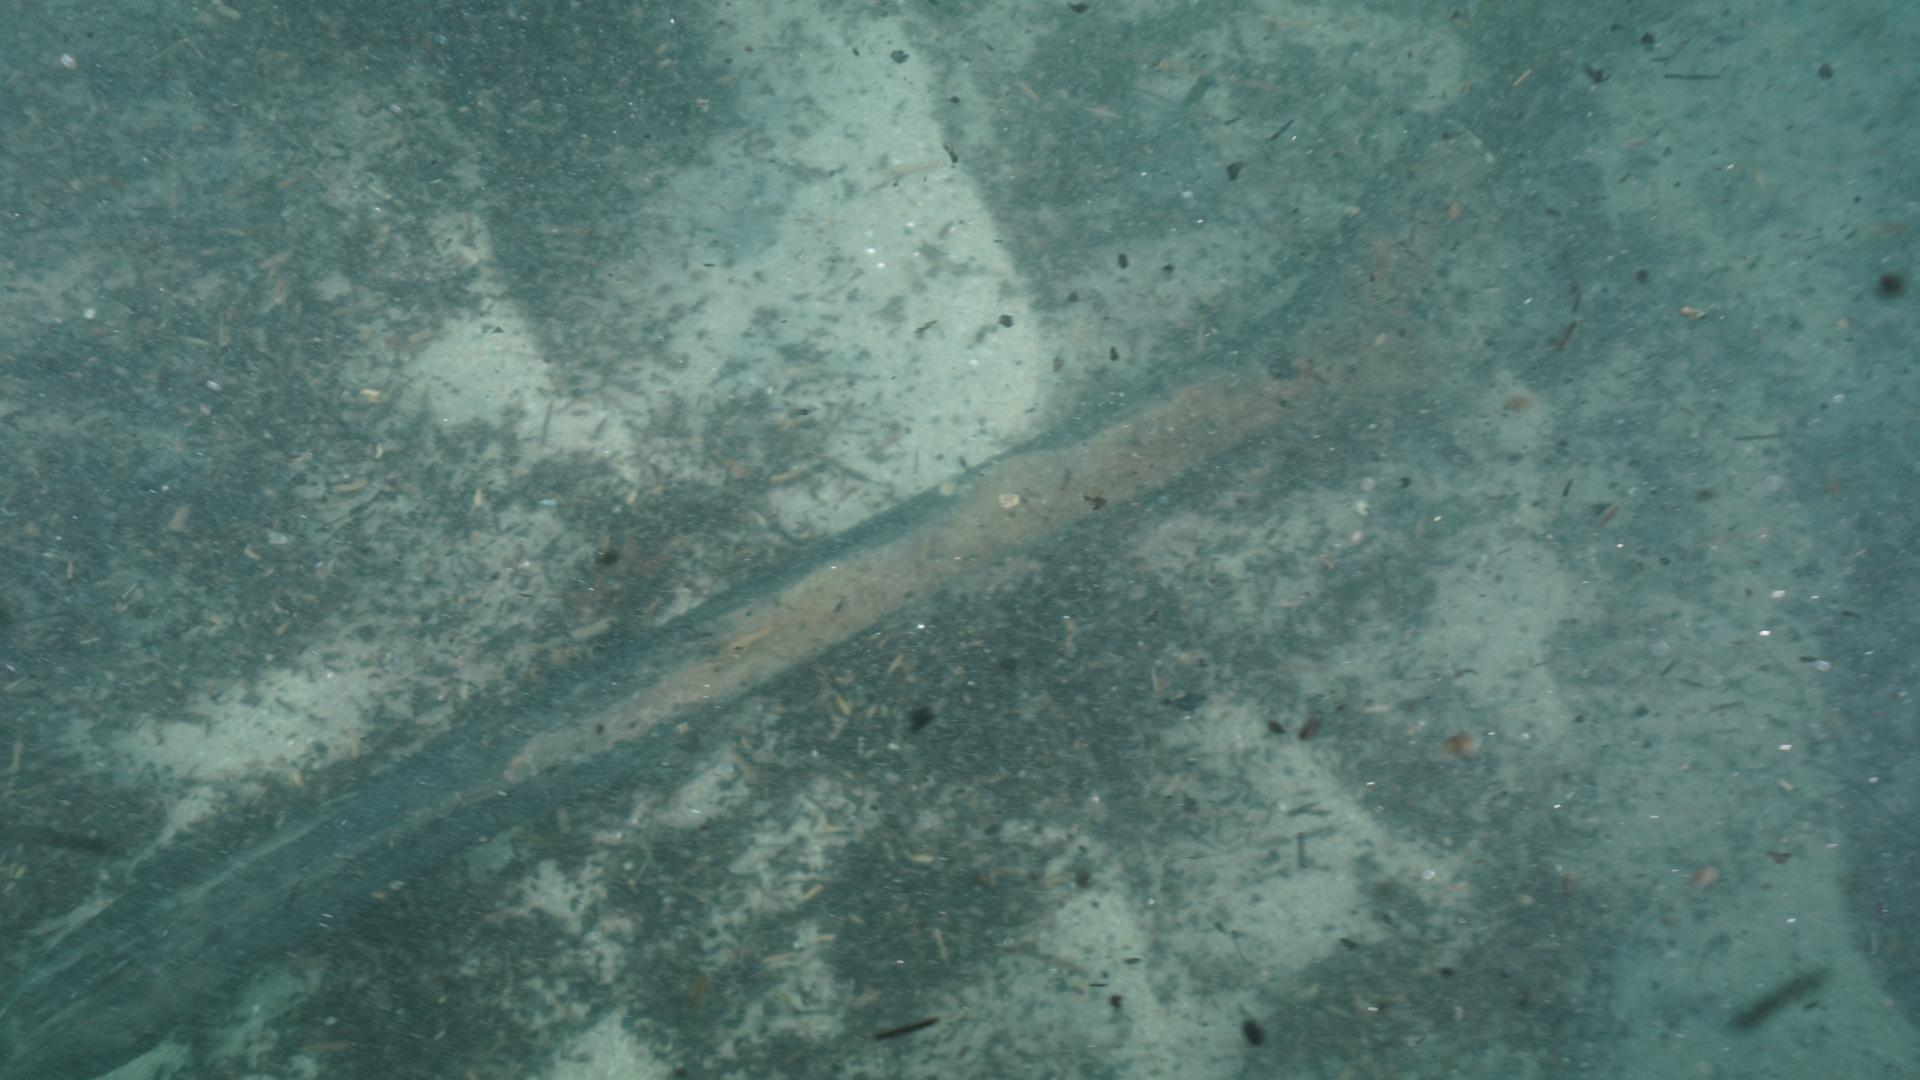wood: (0, 112, 1501, 1080)
